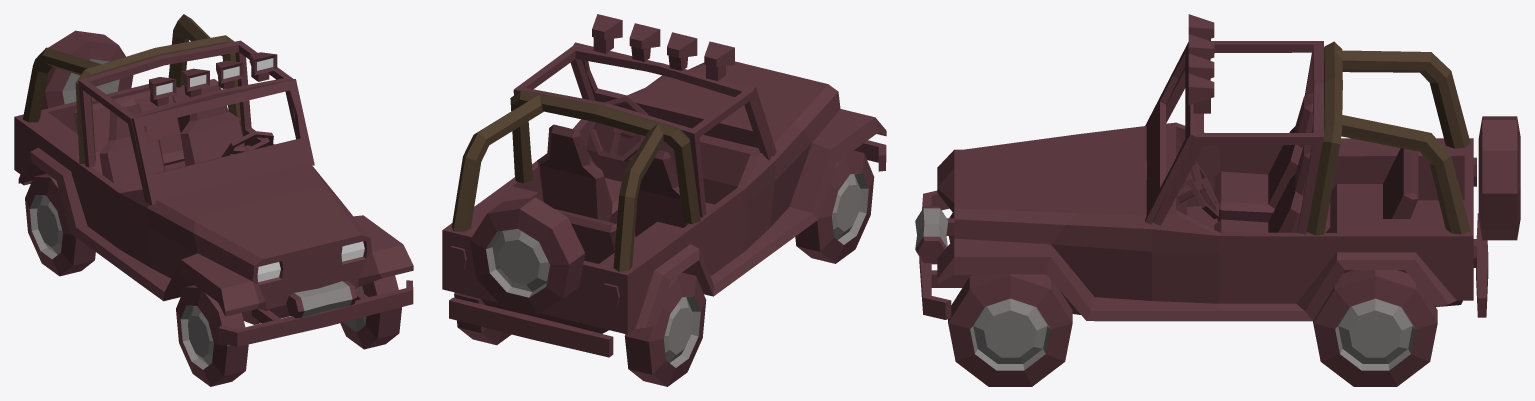
Rendered from jeep-open.fbx.
The picture shows the model from 3 angles, left to right: view 1: azimuth 30°, elevation 25°; view 2: azimuth 150°, elevation 25°; view 3: azimuth 270°, elevation 25°; orthographic projection. The views are drawn at different scales.
Parts seen in each view (by area): view 1: jeep-open-base, jeep-open-wheel_FR, jeep-open-wheel_BL, jeep-open-wheel_FL; view 2: jeep-open-base, jeep-open-wheel_BL, jeep-open-wheel_FR, jeep-open-wheel_BR; view 3: jeep-open-base, jeep-open-wheel_FL, jeep-open-wheel_BR.
Boxes of the visible parts, left/top/right/bottom form: jeep-open-base: left=14, top=14, right=413, bottom=346; jeep-open-wheel_FR: left=176, top=285, right=248, bottom=386; jeep-open-wheel_BL: left=25, top=173, right=95, bottom=276; jeep-open-wheel_FL: left=340, top=275, right=401, bottom=349; jeep-open-base: left=442, top=14, right=886, bottom=357; jeep-open-wheel_BL: left=624, top=272, right=706, bottom=386; jeep-open-wheel_FR: left=795, top=150, right=874, bottom=263; jeep-open-wheel_BR: left=454, top=292, right=511, bottom=345; jeep-open-base: left=915, top=14, right=1520, bottom=321; jeep-open-wheel_FL: left=948, top=274, right=1072, bottom=386; jeep-open-wheel_BR: left=1313, top=270, right=1437, bottom=386.
Size of the model in its own units: 1.83 by 2.12 by 4.09.
